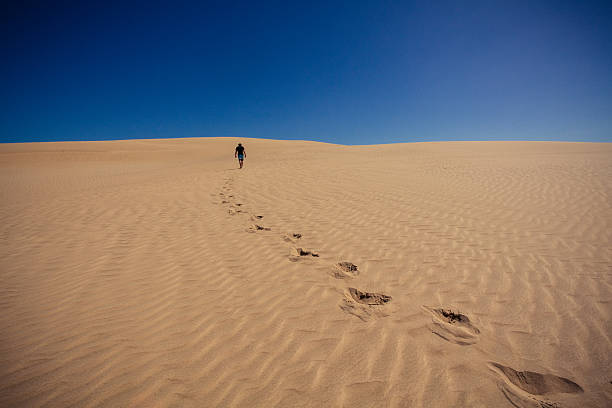human_foot_print: (488, 362, 583, 407), (423, 306, 479, 344), (340, 288, 391, 320), (330, 261, 358, 278), (289, 247, 318, 261), (248, 224, 270, 231)
